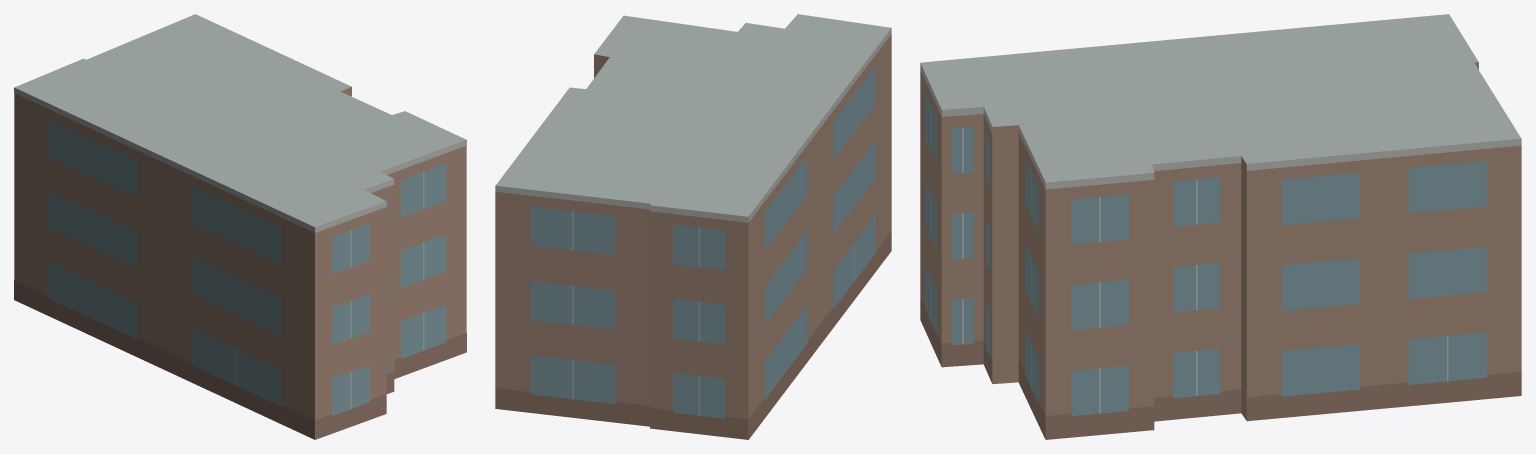
Rendered from survey-upis-32491030.glb.
3 renders of one model, left to right at view 1: azimuth 30°, elevation 25°; view 2: azimuth 150°, elevation 25°; view 3: azimuth 270°, elevation 25°, orthographic. The views are drawn at different scales.
Parts seen in each view (by area): view 1: survey-upis-32491030.tmp; view 2: survey-upis-32491030.tmp; view 3: survey-upis-32491030.tmp.
Part boxes in pixels (left/top/right/bottom): survey-upis-32491030.tmp: left=14, top=14, right=466, bottom=439; survey-upis-32491030.tmp: left=495, top=14, right=891, bottom=439; survey-upis-32491030.tmp: left=920, top=14, right=1521, bottom=439.
Bounding box in the file's own units: 12.81 × 9.1 × 19.29.
